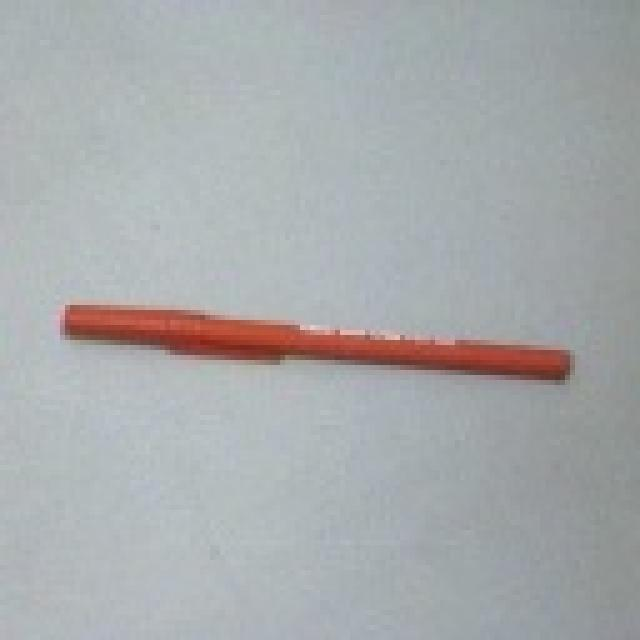pen: (60, 298, 578, 397)
